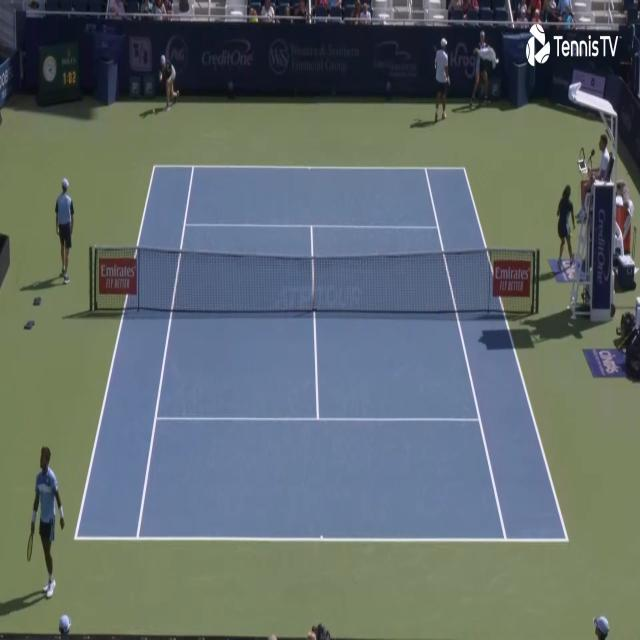tennis-player: (23, 442, 64, 605), (432, 35, 452, 124)
